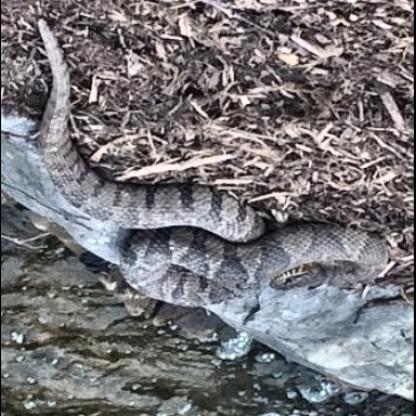Snake: (32, 15, 398, 318)
